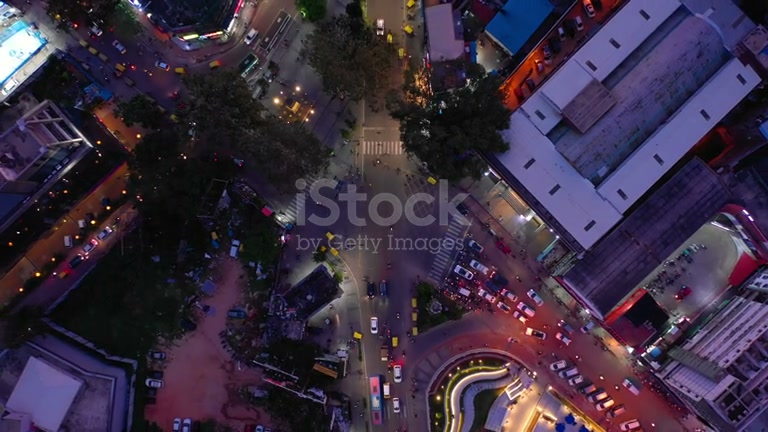car: (119, 0, 255, 78)
